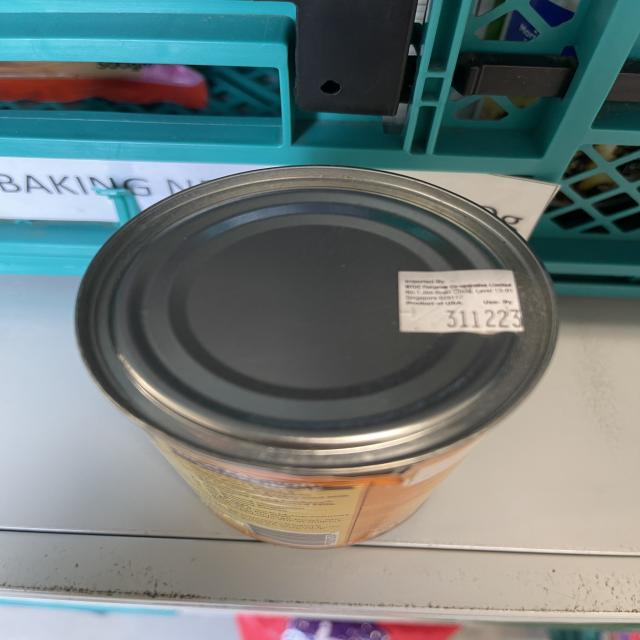object_name: (82, 176, 547, 540)
